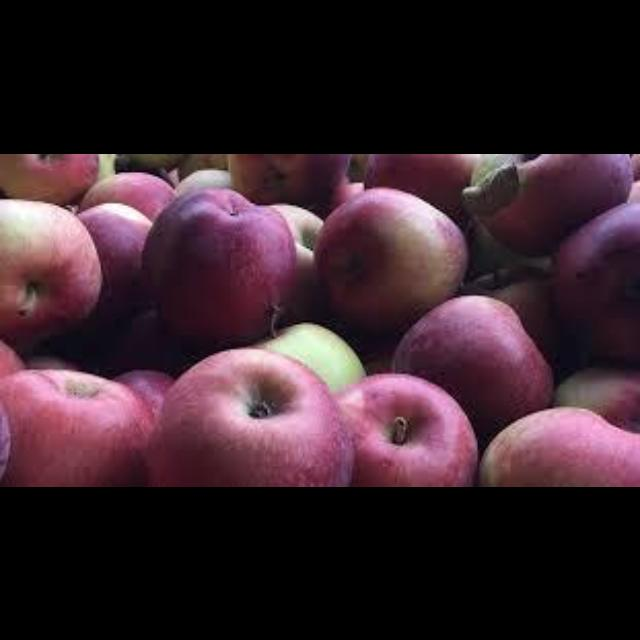apple: (144, 348, 352, 484), (142, 188, 294, 346), (393, 295, 552, 439), (315, 186, 465, 332), (0, 369, 152, 484), (461, 153, 632, 254), (335, 373, 475, 484), (0, 198, 101, 344), (554, 202, 638, 361), (477, 406, 638, 484), (78, 202, 150, 320), (465, 266, 556, 359), (364, 153, 477, 221), (255, 322, 364, 390), (268, 202, 321, 320), (226, 153, 348, 204), (0, 153, 113, 202), (554, 367, 638, 431), (80, 172, 175, 219), (113, 369, 173, 414), (175, 167, 230, 192)
